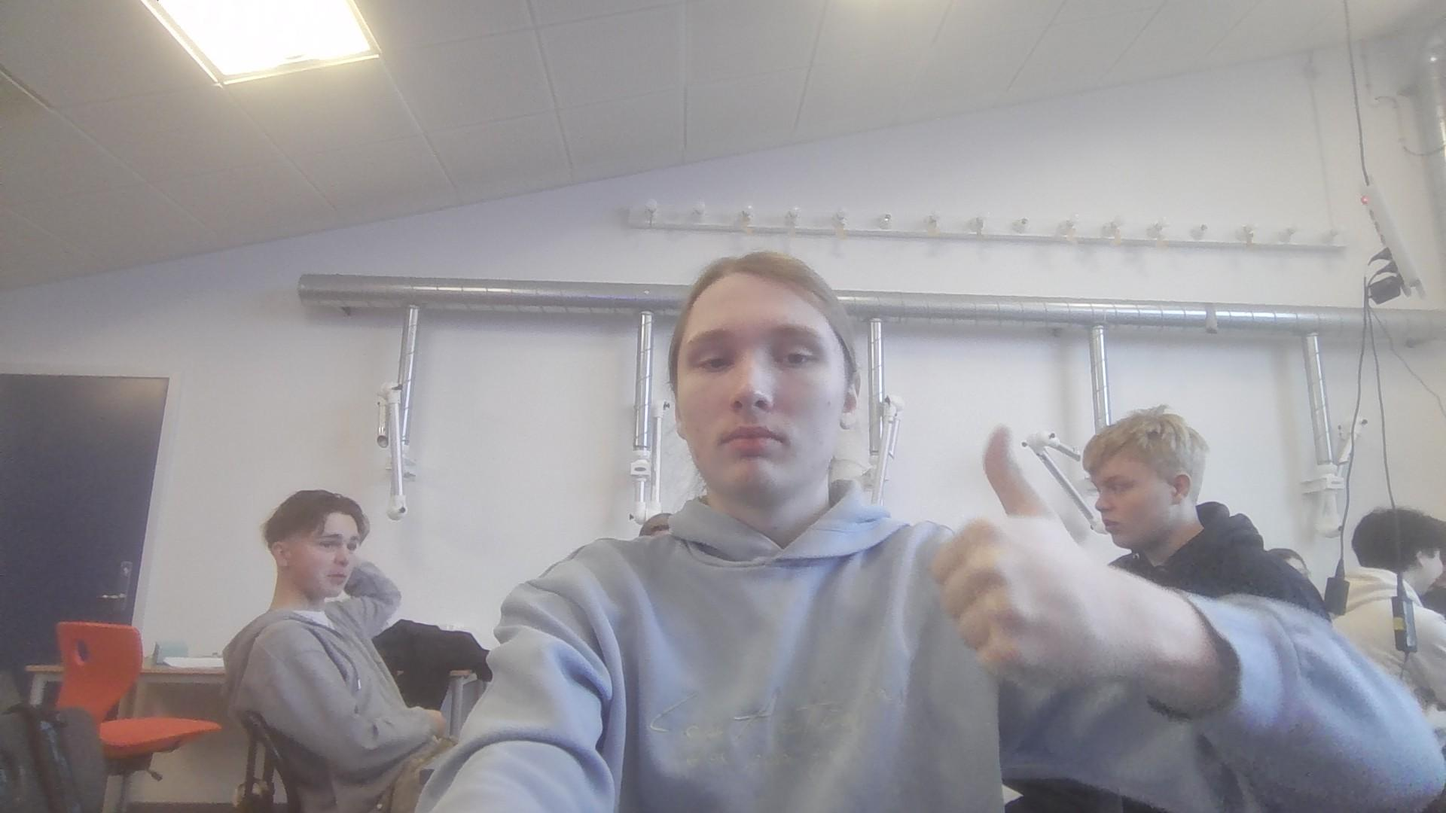thumbs up: (941, 424, 1115, 691)
